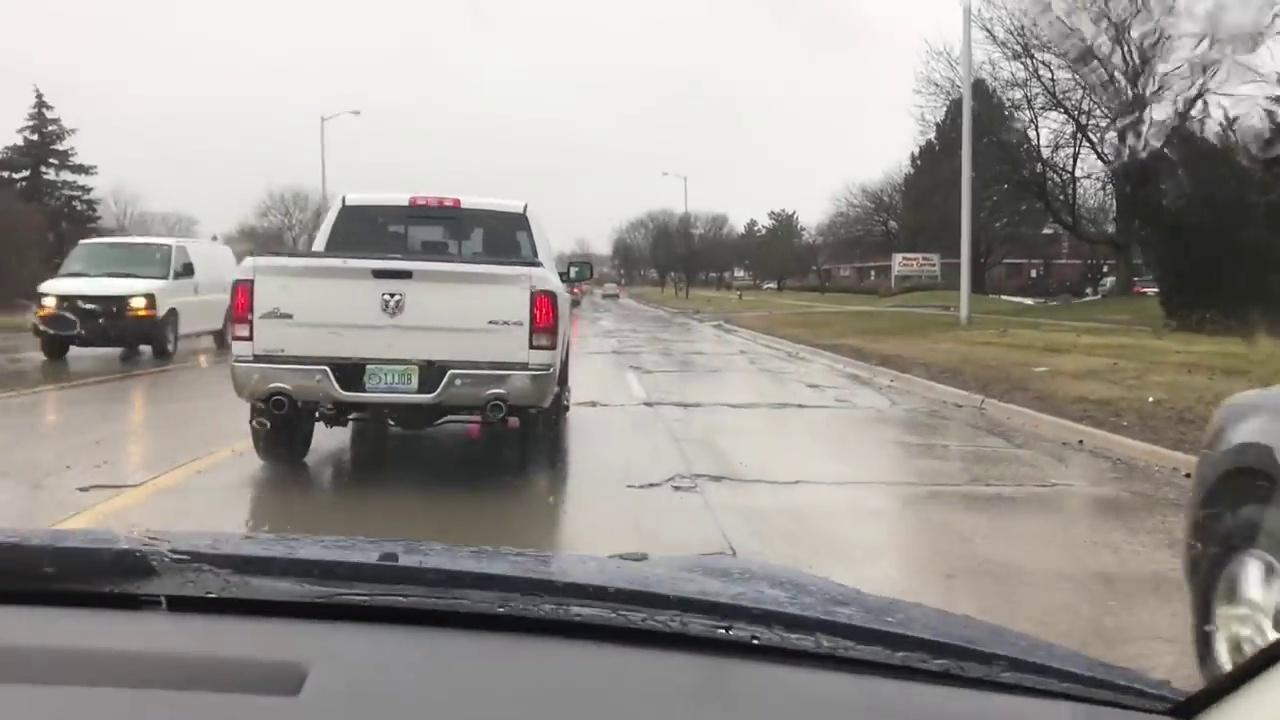pothole: (626, 473, 921, 492), (634, 400, 838, 407), (76, 482, 146, 492)
